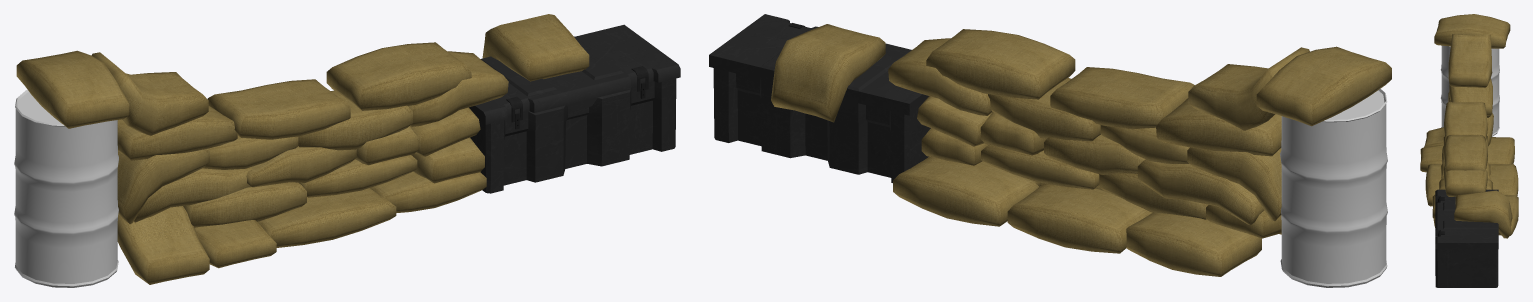
Rendered from SandBag_WAssets.FBX.
3 views of the same model, side by side, from view 1: azimuth 30°, elevation 25°; view 2: azimuth 150°, elevation 25°; view 3: azimuth 270°, elevation 25° (orthographic). The views are drawn at different scales.
Visible parts, largest first — view 1: Sandbag_Others; view 2: Sandbag_Others; view 3: Sandbag_Others.
Boxes of the visible parts, x1=… form: Sandbag_Others: x1=14, y1=14, x2=680, y2=287; Sandbag_Others: x1=709, y1=14, x2=1391, y2=287; Sandbag_Others: x1=1420, y1=14, x2=1518, y2=287.
Size of the model in its own units: 131 by 40.81 by 31.65.
